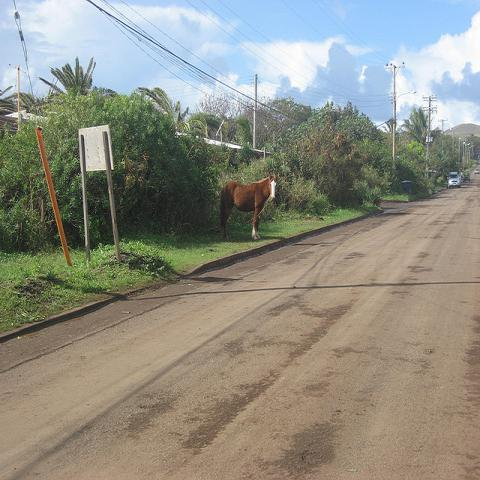car: (448, 172, 460, 189), (460, 172, 471, 182), (475, 168, 479, 174)
